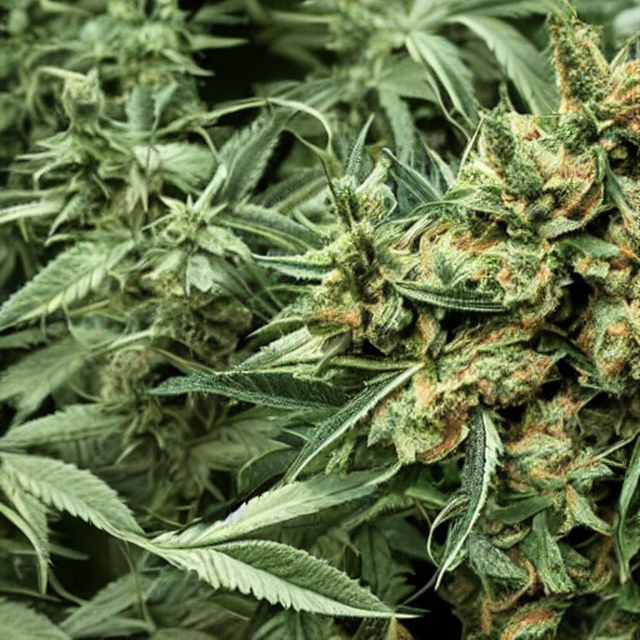Marijuana Plant: (0, 33, 640, 639)
